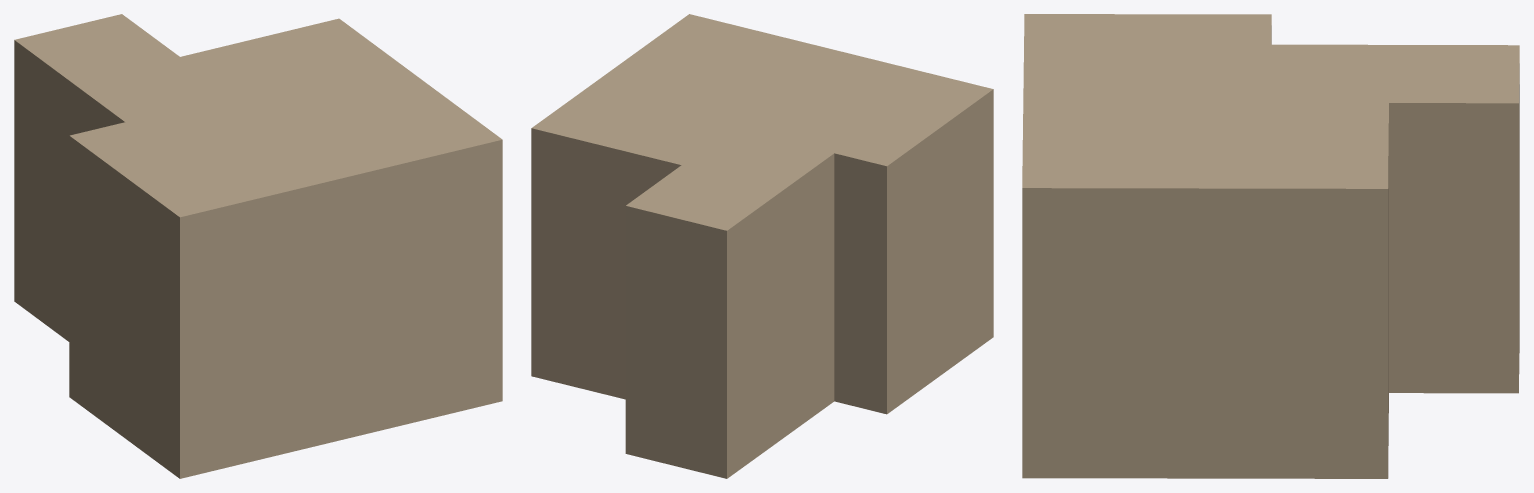
Rendered from bld_106306704.dae.
3 renders of one model, left to right at view 1: azimuth 30°, elevation 25°; view 2: azimuth 150°, elevation 25°; view 3: azimuth 270°, elevation 25°, orthographic. The views are drawn at different scales.
Parts seen in each view (by area): view 1: bld_106306704; view 2: bld_106306704; view 3: bld_106306704.
Part boxes in pixels (left/top/right/bottom): bld_106306704: left=14, top=14, right=502, bottom=478; bld_106306704: left=531, top=14, right=993, bottom=478; bld_106306704: left=1022, top=14, right=1519, bottom=478.
Size of the model in its own units: 10.35 by 12.44 by 8.
